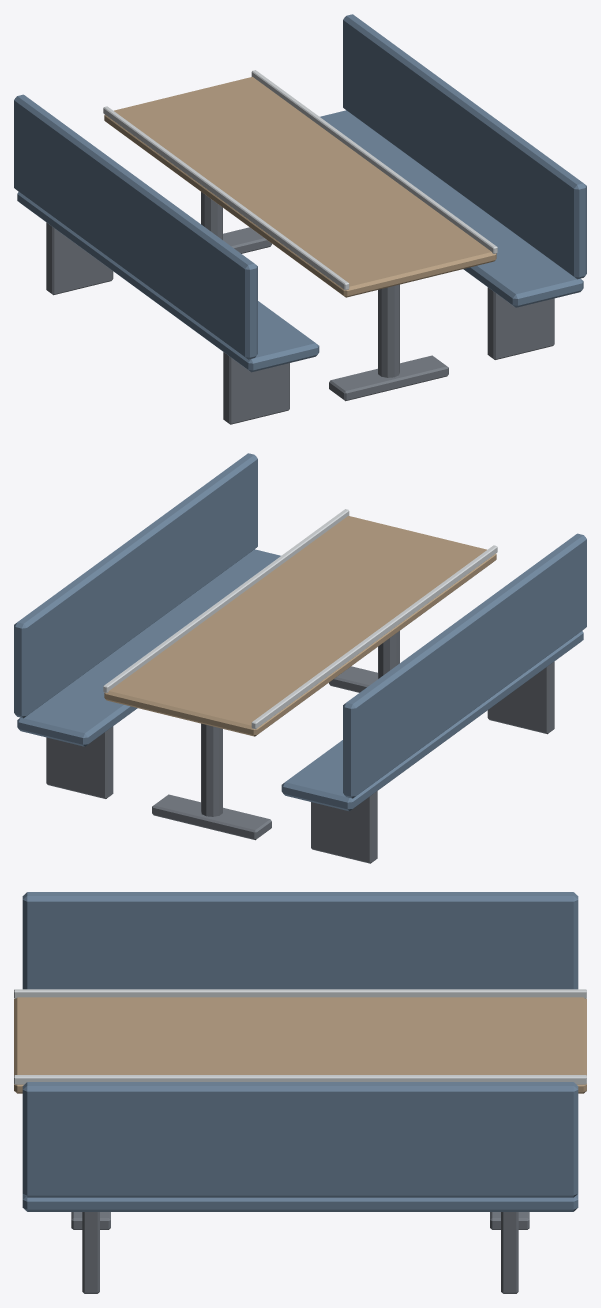
The model's file is ship_mess_booth.glb.
3 renders of one model, top to bottom at view 1: azimuth 30°, elevation 25°; view 2: azimuth 150°, elevation 25°; view 3: azimuth 270°, elevation 25°, orthographic. The views are drawn at different scales.
Visible parts, largest first — view 1: TableTop, BenchBack_-0.82, BenchBack_0.82, BenchSeat_0.82, BenchSeat_-0.82, BFrame_0.82_-0.95, BFrame_-0.82_-0.95, BFrame_-0.82_0.95, SeaLipL, TabFoot_-0.95, SeaLipR, TabLeg_-0.95 (+2 smaller); view 2: TableTop, BenchBack_-0.82, BenchBack_0.82, BenchSeat_0.82, BenchSeat_-0.82, BFrame_0.82_0.95, BFrame_-0.82_0.95, BFrame_-0.82_-0.95, SeaLipL, TabFoot_0.95, SeaLipR, TabLeg_0.95 (+2 smaller); view 3: BenchBack_0.82, BenchBack_-0.82, TableTop, BenchSeat_0.82, SeaLipL, SeaLipR, BFrame_0.82_-0.95, BFrame_0.82_0.95.
Boxes of the visible parts, bbox=[...] form: TableTop: bbox=[104, 77, 496, 297]; BenchBack_-0.82: bbox=[14, 94, 257, 359]; BenchBack_0.82: bbox=[343, 14, 586, 279]; BenchSeat_0.82: bbox=[320, 110, 583, 307]; BenchSeat_-0.82: bbox=[17, 192, 319, 372]; BFrame_0.82_-0.95: bbox=[487, 287, 554, 359]; BFrame_-0.82_-0.95: bbox=[223, 352, 289, 424]; BFrame_-0.82_0.95: bbox=[46, 222, 113, 295]; SeaLipL: bbox=[103, 106, 349, 290]; TabFoot_-0.95: bbox=[329, 355, 448, 401]; SeaLipR: bbox=[251, 70, 497, 253]; TabLeg_-0.95: bbox=[378, 284, 399, 377]; TableTop: bbox=[104, 516, 496, 736]; BenchBack_-0.82: bbox=[343, 533, 586, 798]; BenchBack_0.82: bbox=[14, 453, 257, 718]; BenchSeat_0.82: bbox=[17, 549, 280, 746]; BenchSeat_-0.82: bbox=[281, 631, 583, 811]; BFrame_0.82_0.95: bbox=[46, 726, 113, 798]; BFrame_-0.82_0.95: bbox=[311, 791, 377, 863]; BFrame_-0.82_-0.95: bbox=[487, 661, 554, 734]; SeaLipL: bbox=[251, 545, 497, 729]; TabFoot_0.95: bbox=[152, 794, 271, 840]; SeaLipR: bbox=[103, 509, 349, 692]; TabLeg_0.95: bbox=[201, 723, 222, 816]; BenchBack_0.82: bbox=[22, 1082, 578, 1197]; BenchBack_-0.82: bbox=[22, 892, 578, 989]; TableTop: bbox=[14, 997, 586, 1093]; BenchSeat_0.82: bbox=[22, 1194, 578, 1211]; SeaLipL: bbox=[14, 989, 586, 998]; SeaLipR: bbox=[14, 1075, 586, 1084]; BFrame_0.82_-0.95: bbox=[82, 1212, 99, 1293]; BFrame_0.82_0.95: bbox=[501, 1212, 518, 1293].
Size of the model in its own units: 2.12 by 1.06 by 2.6.
